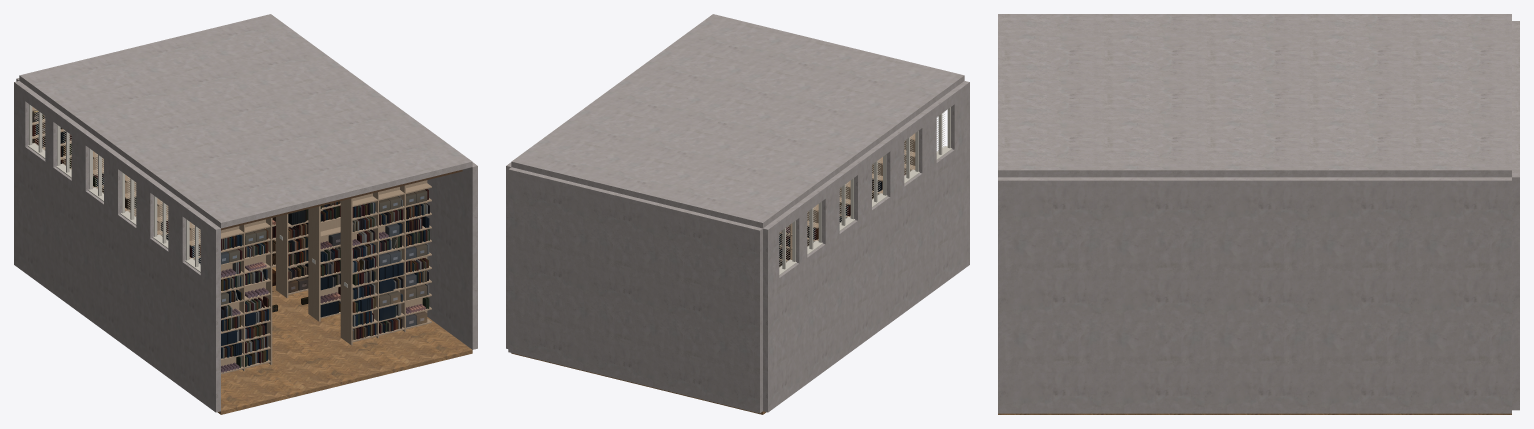
Rendered from archive.glb.
3 renders of one model, left to right at view 1: azimuth 30°, elevation 25°; view 2: azimuth 150°, elevation 25°; view 3: azimuth 270°, elevation 25°, orthographic. The views are drawn at different scales.
Parts seen in each view (by area): view 1: Archive_shell, Archive_books; view 2: Archive_shell, Archive_books; view 3: Archive_shell.
Part boxes in pixels (bbox=[...]): Archive_shell: bbox=[14, 14, 477, 414]; Archive_books: bbox=[32, 110, 429, 372]; Archive_shell: bbox=[506, 14, 969, 414]; Archive_books: bbox=[779, 174, 905, 266]; Archive_shell: bbox=[998, 14, 1519, 414].
Size of the model in its own units: 7.5 by 5.25 by 10.15.
46 materials, 18 textured.
